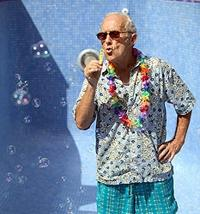person: (72, 12, 195, 214)
